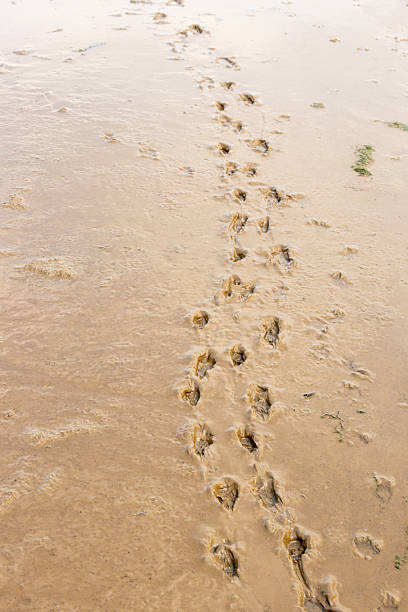animal_foot_print: (283, 525, 310, 594), (301, 576, 349, 611), (250, 471, 282, 509), (18, 258, 77, 278), (216, 275, 254, 300), (210, 542, 237, 577), (189, 422, 214, 458), (211, 477, 238, 510), (247, 384, 271, 420), (265, 245, 295, 272), (353, 532, 382, 559), (260, 186, 295, 206), (261, 316, 281, 348), (373, 473, 394, 503), (236, 425, 258, 453), (193, 350, 215, 377), (179, 379, 200, 406), (375, 590, 400, 611), (0, 193, 26, 209), (228, 212, 247, 233), (229, 344, 246, 366), (179, 24, 207, 36), (330, 270, 351, 286), (249, 138, 269, 154), (192, 310, 208, 328), (216, 56, 238, 69), (230, 246, 246, 262), (257, 215, 270, 233), (224, 161, 239, 176), (241, 163, 257, 176), (239, 92, 256, 104), (233, 188, 247, 202), (217, 142, 230, 154), (230, 120, 243, 132), (217, 113, 231, 124), (153, 12, 166, 22), (215, 101, 227, 111), (220, 81, 234, 89)
